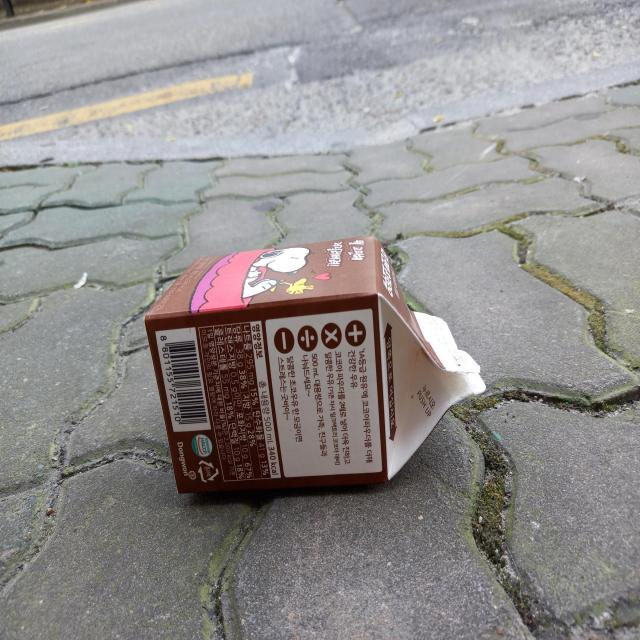paperpack: (144, 236, 486, 493)
